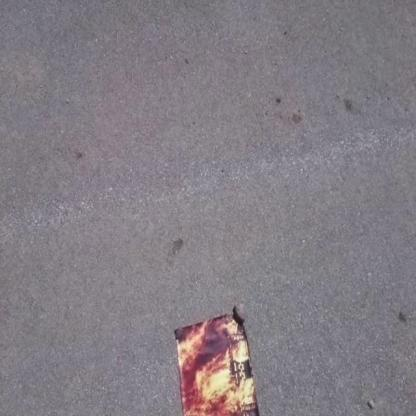fire-poster: (173, 303, 261, 415)
